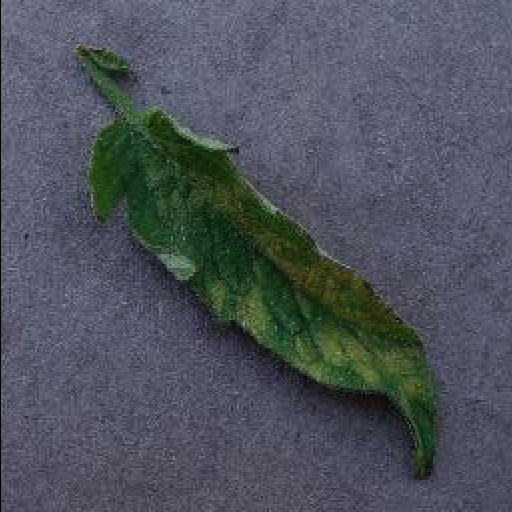disease_tomato: (84, 111, 442, 476)
